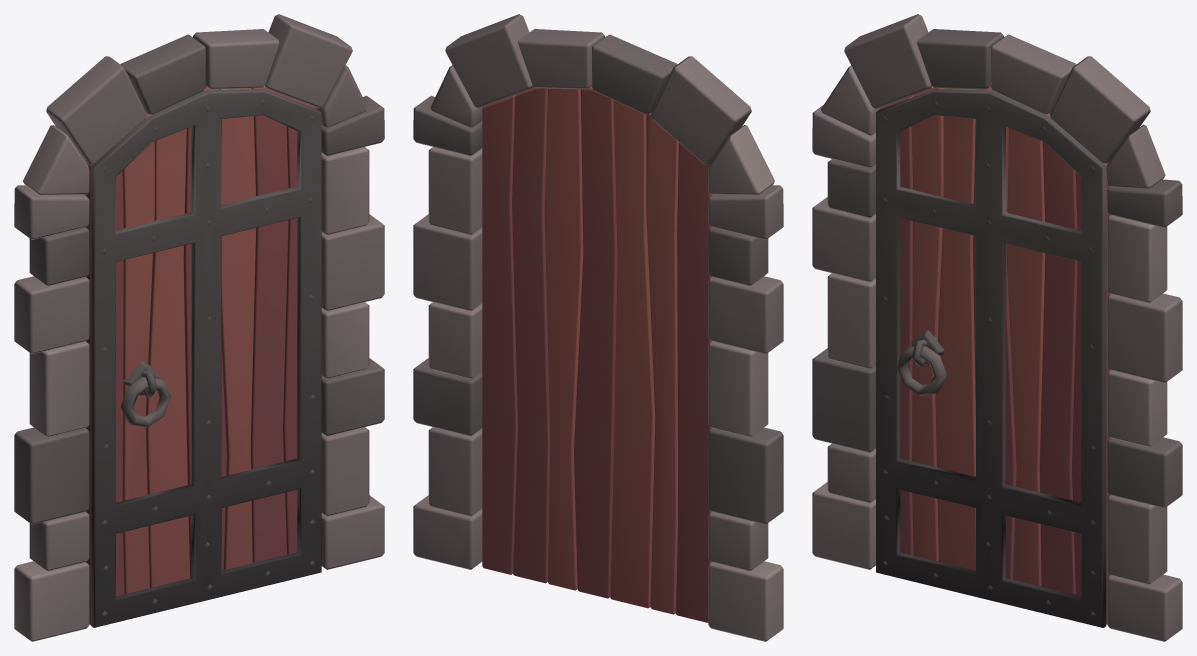
Rendered from door5.glb.
3 renders of one model, left to right at view 1: azimuth 30°, elevation 25°; view 2: azimuth 150°, elevation 25°; view 3: azimuth 330°, elevation 25°, orthographic.
Visible parts, largest first — view 1: Door.016, Stone.arch.012; view 2: Door.016, Stone.arch.012; view 3: Door.016, Stone.arch.012.
Part boxes in pixels (x1,y1,x2,y2): Door.016: (85,86,321,627); Stone.arch.012: (14,14,384,641); Door.016: (482,86,712,622); Stone.arch.012: (413,14,783,641); Door.016: (876,86,1110,627); Stone.arch.012: (812,14,1182,641).
Bounding box in the file's own units: 1.68 × 2.5 × 0.2371.
1 material, 1 textured.
